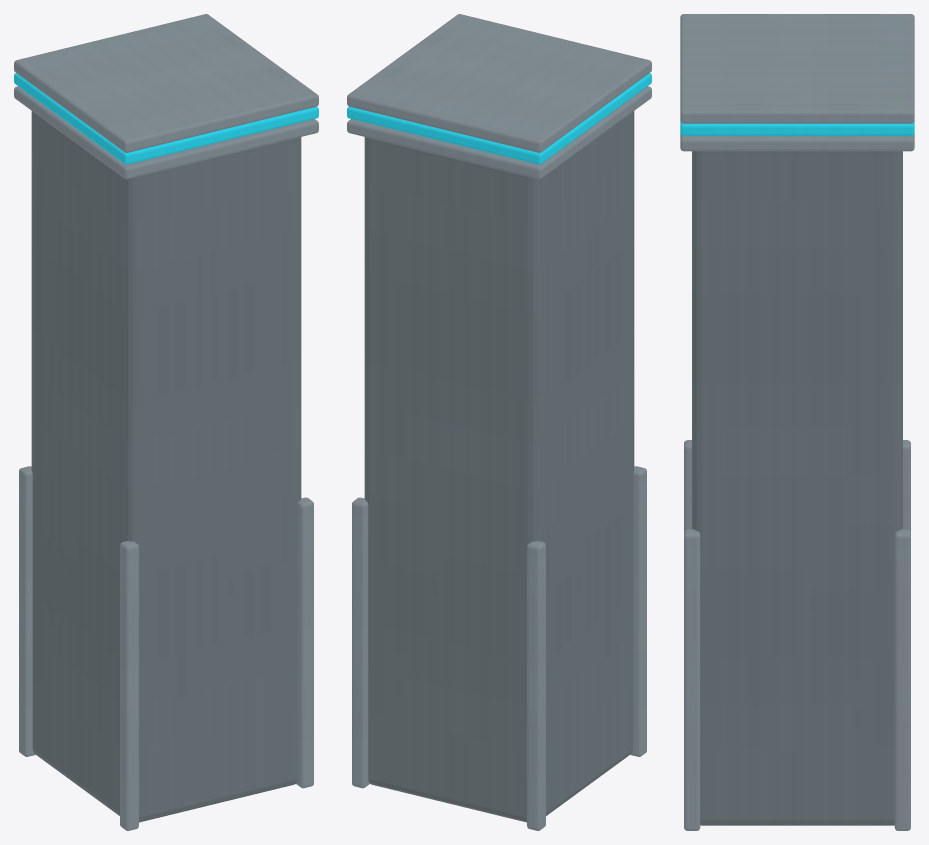
Rendered from pillar.glb.
3 renders of one model, left to right at view 1: azimuth 30°, elevation 25°; view 2: azimuth 150°, elevation 25°; view 3: azimuth 270°, elevation 25°, orthographic. The views are drawn at different scales.
Visible parts, largest first — view 1: pillar; view 2: pillar; view 3: pillar.
Boxes of the visible parts, bbox=[...] form: pillar: bbox=[14, 14, 318, 830]; pillar: bbox=[347, 14, 651, 830]; pillar: bbox=[680, 14, 914, 830].
Bounding box in the file's own units: 1 × 3.4 × 1.
Materials: 1 (1 with a texture image).
